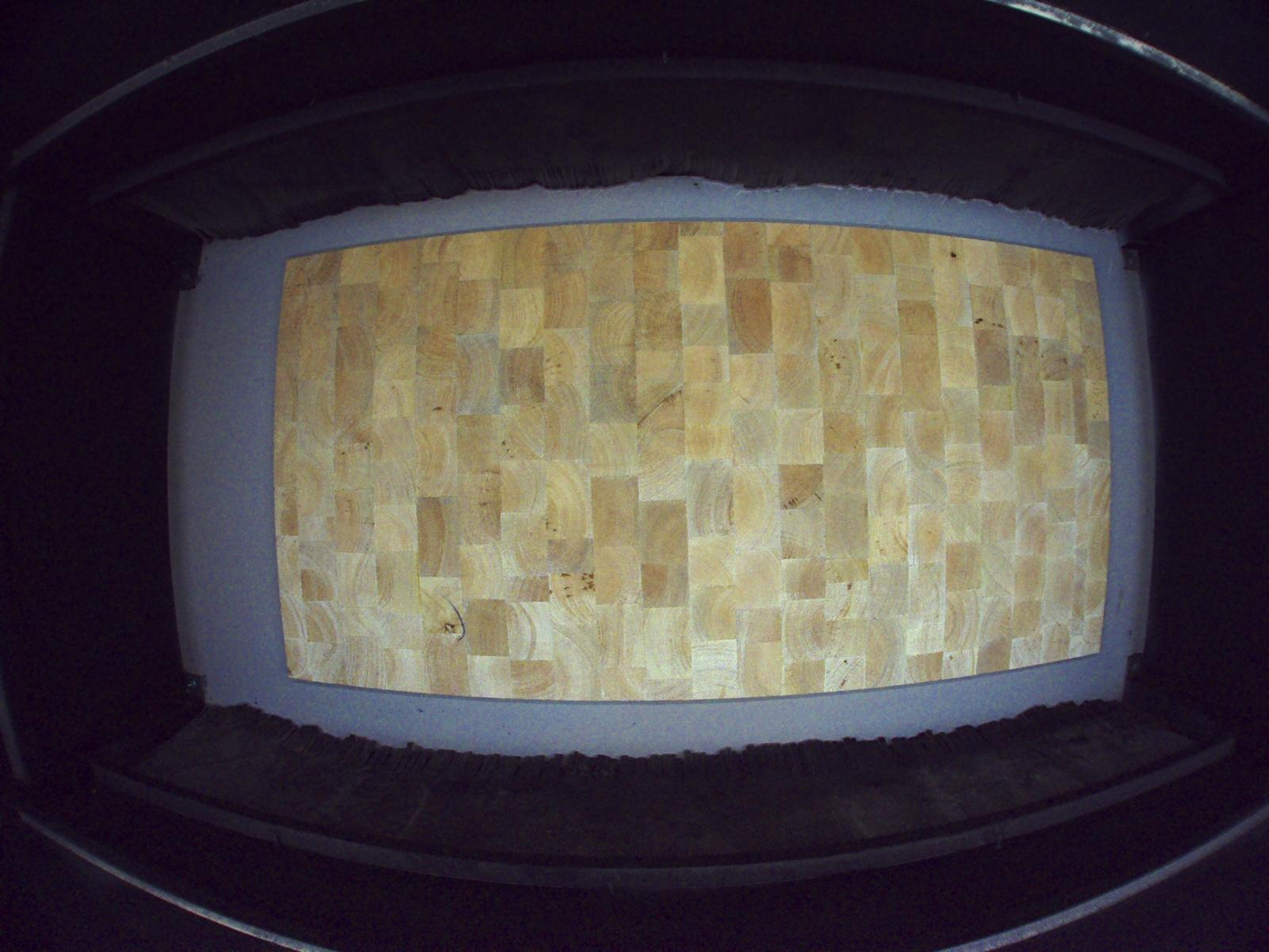nudillo: (443, 620, 459, 636)
